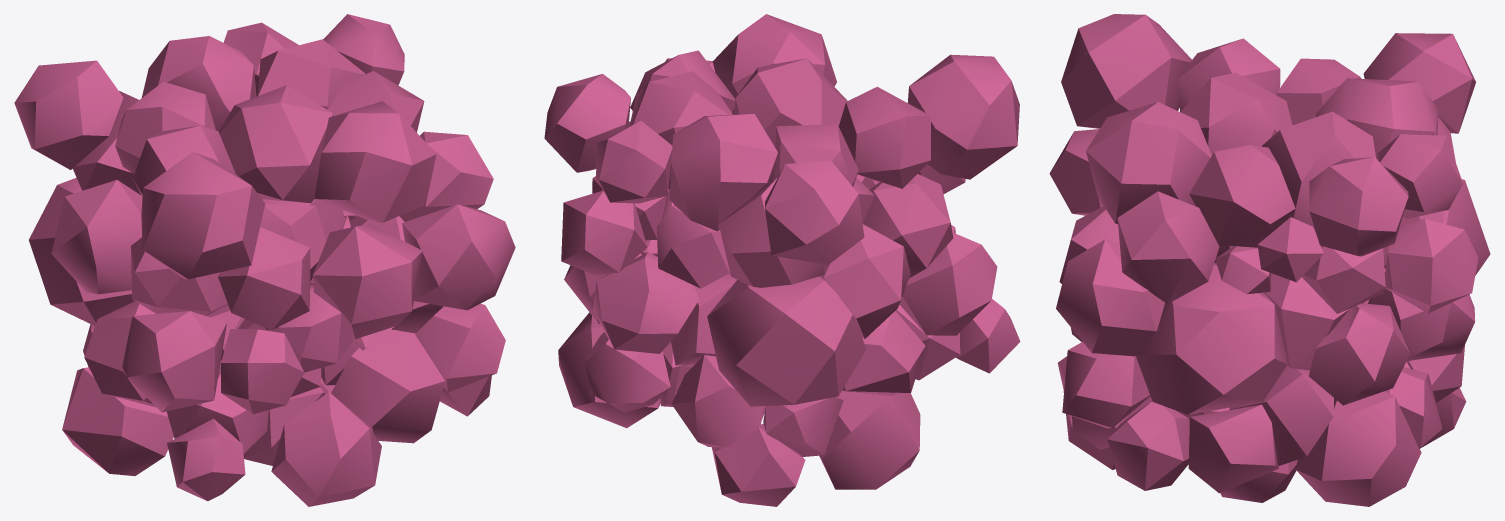
3 views of the same model, side by side, from view 1: azimuth 30°, elevation 25°; view 2: azimuth 150°, elevation 25°; view 3: azimuth 270°, elevation 25° (orthographic). The views are drawn at different scales.
Visible parts, largest first — view 1: Spheres_03; view 2: Spheres_03; view 3: Spheres_03.
Boxes of the visible parts, x1,y1,x2,y2 form: Spheres_03: (14, 14, 515, 506); Spheres_03: (544, 14, 1020, 506); Spheres_03: (1049, 14, 1490, 506).
Bounding box in the file's own units: 252 × 242 × 244.
Materials: 1 (1 with a texture image).
